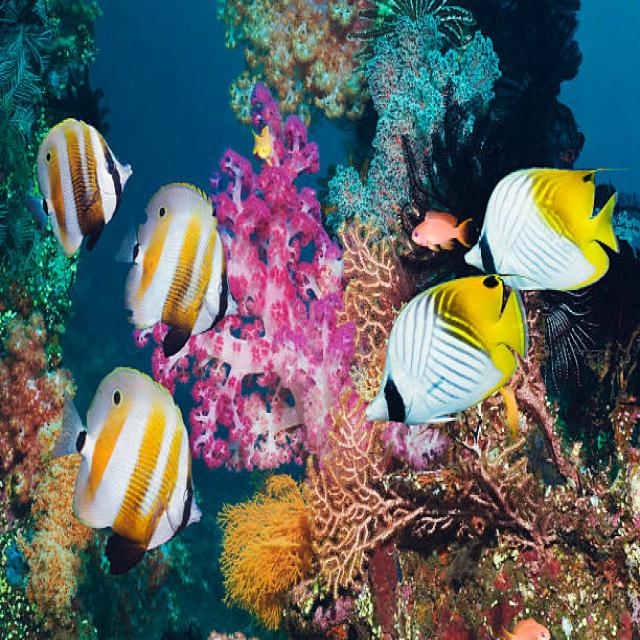ButterflyFish: (74, 366, 202, 556), (366, 276, 528, 426), (465, 165, 619, 295), (119, 186, 231, 362), (35, 118, 134, 254)
